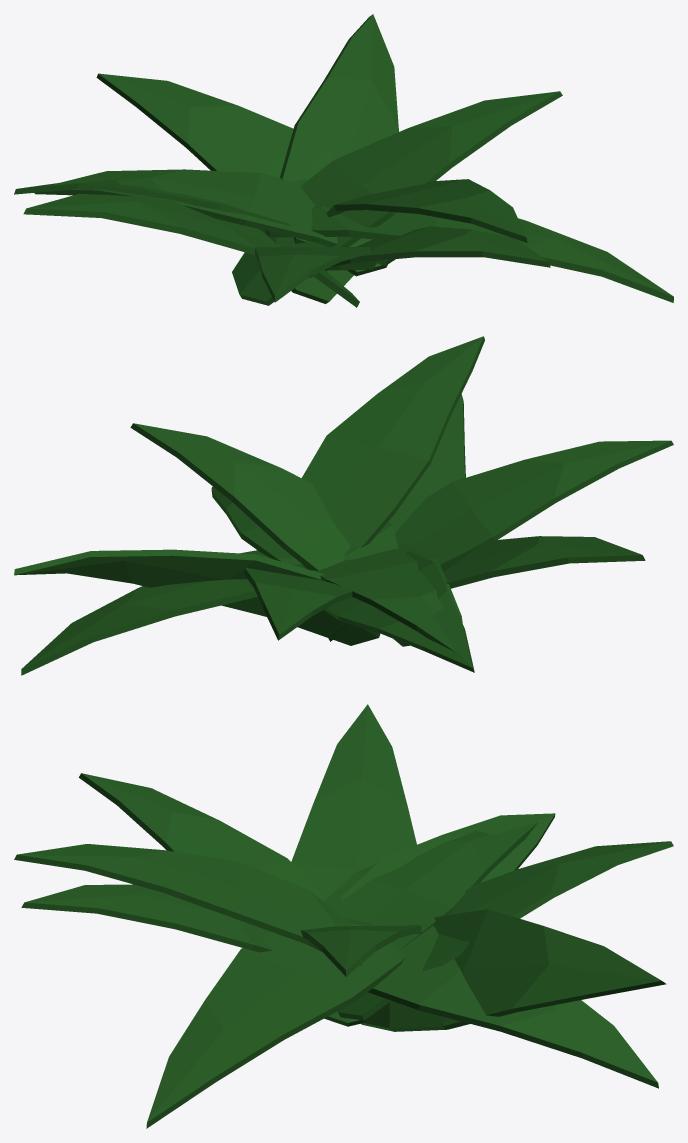
The model's file is Bush.fbx.
3 views of the same model, one above another, from view 1: azimuth 30°, elevation 25°; view 2: azimuth 150°, elevation 25°; view 3: azimuth 270°, elevation 25° (orthographic). The views are drawn at different scales.
Parts seen in each view (by area): view 1: Leaf.014, Leaf.021, Leaf.019, Leaf.012, Leaf.017, Leaf.016, Leaf.015, Leaf.011, Leaf.018, Leaf.020; view 2: Leaf.015, Leaf.018, Leaf.014, Leaf.021, Leaf.013, Leaf.012, Leaf.016, Leaf.020, Leaf.019, Leaf.011, Leaf.017; view 3: Leaf.017, Leaf.021, Leaf.016, Leaf.015, Leaf.013, Leaf.012, Leaf.019, Leaf.018, Leaf.011, Leaf.020, Leaf.014.
Boxes of the visible parts, <box> form: Leaf.014: <box>232,91,562,305</box>; Leaf.021: <box>280,14,398,303</box>; Leaf.019: <box>96,73,387,276</box>; Leaf.012: <box>34,169,395,265</box>; Leaf.017: <box>264,206,673,302</box>; Leaf.016: <box>23,193,359,307</box>; Leaf.015: <box>326,179,527,242</box>; Leaf.011: <box>309,226,550,277</box>; Leaf.018: <box>255,247,377,302</box>; Leaf.020: <box>14,180,319,245</box>; Leaf.015: <box>302,336,484,547</box>; Leaf.018: <box>395,440,673,564</box>; Leaf.014: <box>130,423,409,646</box>; Leaf.021: <box>14,549,380,645</box>; Leaf.013: <box>21,550,307,675</box>; Leaf.012: <box>303,544,462,652</box>; Leaf.016: <box>327,536,645,641</box>; Leaf.020: <box>324,551,474,672</box>; Leaf.019: <box>244,567,352,640</box>; Leaf.011: <box>389,394,465,532</box>; Leaf.017: <box>211,486,398,564</box>; Leaf.017: <box>146,917,405,1128</box>; Leaf.021: <box>361,909,666,1031</box>; Leaf.016: <box>291,704,416,1026</box>; Leaf.015: <box>14,844,362,965</box>; Leaf.013: <box>368,925,658,1088</box>; Leaf.012: <box>324,822,538,947</box>; Leaf.019: <box>338,841,673,1020</box>; Leaf.018: <box>79,773,326,901</box>; Leaf.011: <box>21,884,272,952</box>; Leaf.020: <box>339,813,555,900</box>; Leaf.014: <box>301,925,421,976</box>.
Size of the model in its own units: 441 by 140 by 449.
